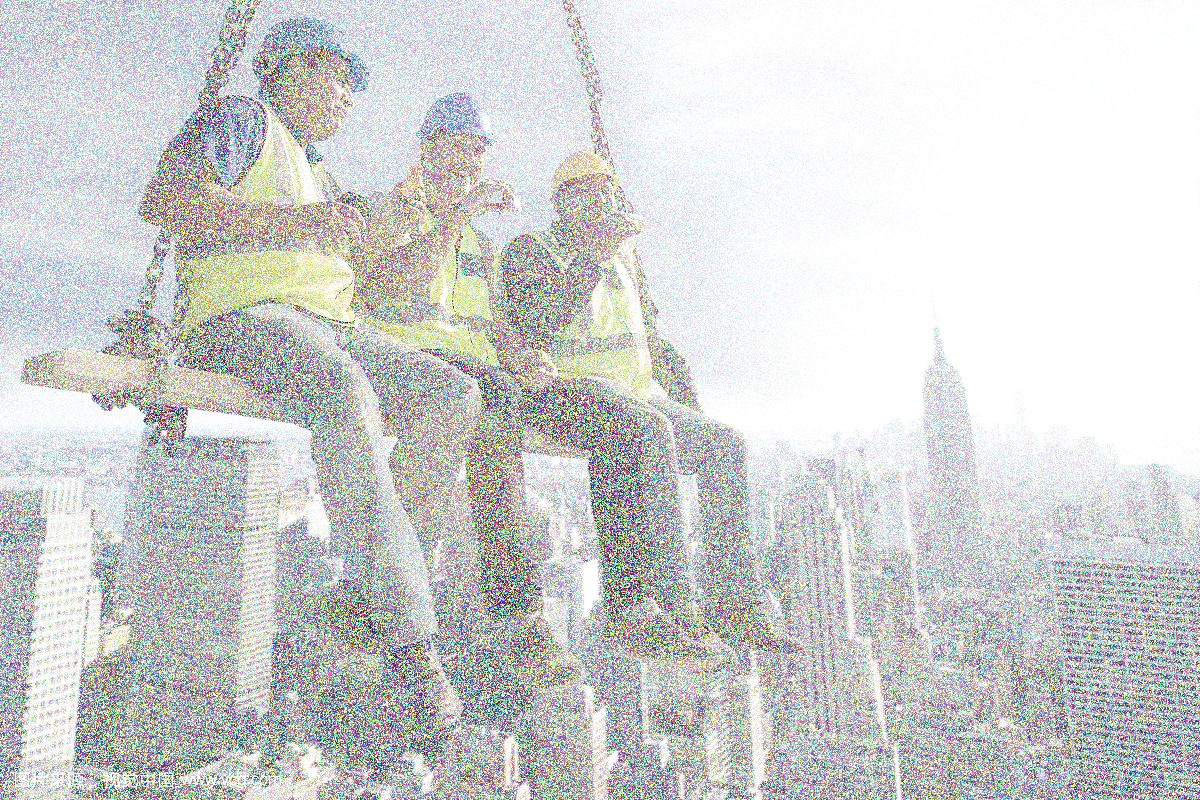helmet: (242, 11, 376, 139), (412, 87, 498, 209), (543, 147, 622, 246)
vest: (175, 104, 365, 326), (505, 223, 658, 390), (369, 196, 503, 354)
